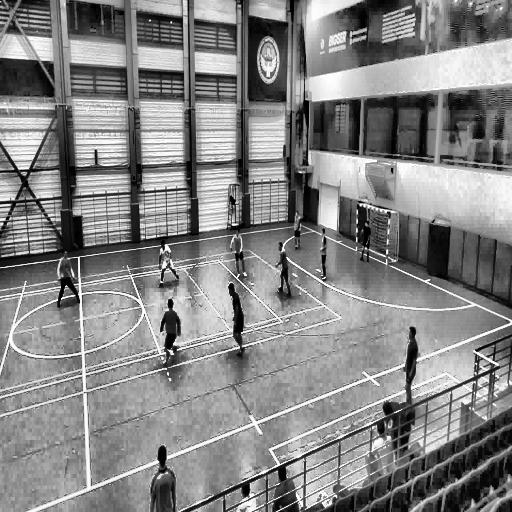ball: (172, 342, 179, 354)
player: (149, 444, 176, 512), (56, 248, 82, 309), (160, 298, 180, 366), (229, 282, 246, 352), (158, 238, 180, 287), (405, 329, 418, 404), (230, 227, 248, 279), (276, 240, 292, 298), (359, 221, 370, 264), (290, 213, 300, 253), (320, 227, 327, 282)
